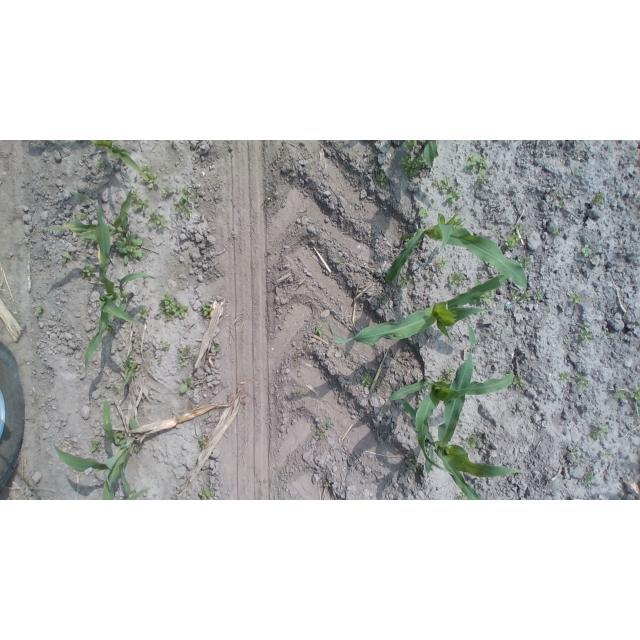Maize: (395, 320, 528, 500), (69, 189, 155, 382), (383, 372, 515, 474), (385, 213, 528, 307), (327, 274, 510, 346), (55, 401, 149, 500), (38, 187, 135, 265), (86, 140, 151, 180), (121, 348, 138, 393), (425, 140, 440, 166)
Weeds: (109, 230, 143, 265), (156, 292, 188, 322), (432, 176, 462, 205), (175, 184, 195, 220), (401, 155, 426, 181), (140, 164, 160, 189), (466, 152, 489, 172), (131, 190, 150, 213), (148, 208, 169, 228), (590, 422, 609, 441), (503, 232, 521, 251), (462, 432, 482, 449), (439, 365, 456, 384), (577, 321, 593, 341), (178, 345, 191, 367), (180, 377, 194, 395), (201, 300, 214, 319), (199, 485, 215, 500), (406, 455, 418, 475), (448, 271, 465, 285), (480, 290, 496, 304), (80, 263, 96, 277), (398, 273, 413, 287), (162, 184, 179, 196), (626, 387, 640, 401), (376, 171, 389, 185), (511, 291, 529, 301), (576, 374, 588, 389), (568, 293, 585, 303), (513, 375, 526, 388), (592, 192, 605, 205), (452, 217, 464, 230), (477, 173, 489, 186), (519, 256, 531, 269), (435, 256, 449, 267), (584, 471, 595, 485), (581, 243, 592, 257), (114, 432, 126, 444), (404, 141, 417, 152), (76, 211, 89, 222), (418, 206, 429, 218), (136, 307, 148, 318), (361, 374, 372, 386), (611, 391, 625, 400), (320, 419, 332, 429), (96, 156, 106, 168), (60, 251, 70, 263), (561, 371, 571, 382), (92, 440, 101, 452), (599, 452, 611, 461), (534, 291, 544, 301), (81, 236, 92, 245), (482, 261, 495, 268), (513, 225, 524, 233), (112, 383, 120, 394), (199, 436, 207, 447), (212, 343, 221, 352), (35, 306, 44, 315), (378, 296, 386, 305), (315, 327, 323, 336), (460, 492, 469, 500), (317, 430, 324, 439), (631, 409, 640, 416), (473, 279, 483, 285), (133, 444, 140, 452), (569, 449, 577, 456), (602, 332, 610, 339), (108, 327, 117, 333), (553, 229, 562, 235), (337, 257, 344, 264), (207, 412, 214, 419), (163, 341, 170, 348), (505, 369, 512, 376), (375, 379, 381, 387), (559, 200, 565, 208), (417, 374, 423, 381), (427, 280, 436, 284), (263, 196, 270, 201), (564, 336, 569, 343), (293, 355, 298, 361), (295, 390, 301, 395), (194, 192, 200, 197), (3, 214, 9, 219), (25, 236, 31, 241), (192, 356, 197, 361), (492, 228, 497, 233), (369, 155, 373, 161), (571, 169, 575, 174), (324, 482, 328, 486), (574, 141, 579, 144)
